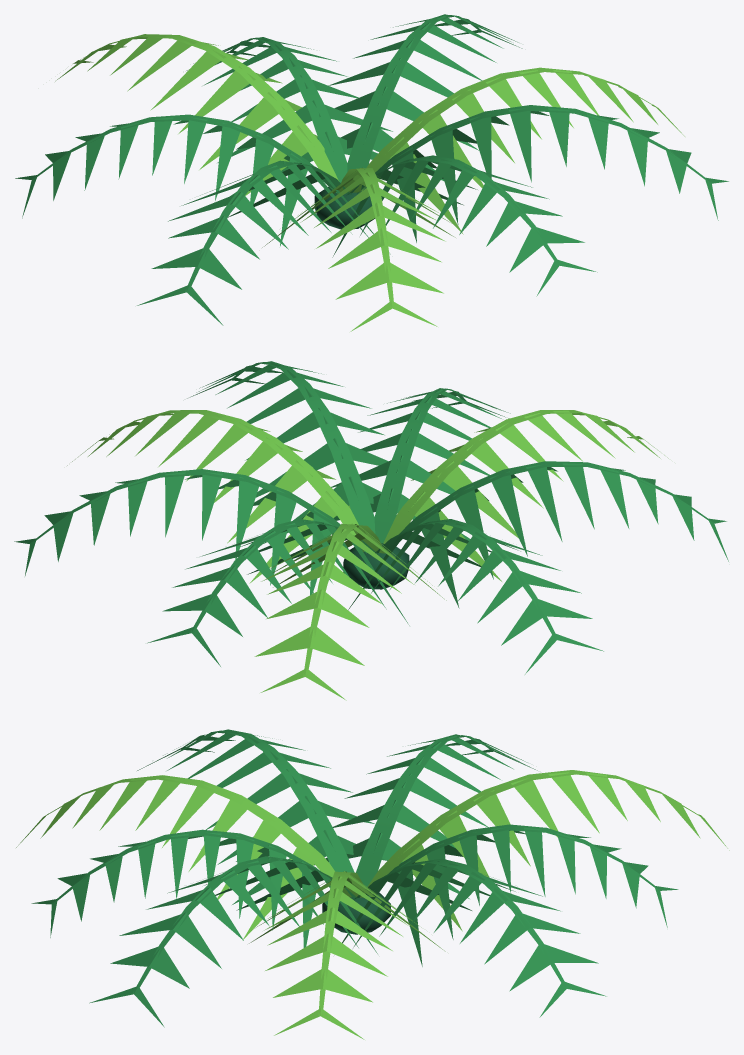
File: jungle_fern.glb
3 renders of one model, top to bottom at view 1: azimuth 30°, elevation 25°; view 2: azimuth 150°, elevation 25°; view 3: azimuth 270°, elevation 25°, orthographic.
Parts seen in each view (by area): view 1: Fern; view 2: Fern; view 3: Fern.
Part boxes in pixels (x1,y1,x2,y2): Fern: (15, 14, 728, 331); Fern: (14, 361, 728, 700); Fern: (16, 729, 729, 1039).
Size of the model in its own units: 3.43 by 0.7068 by 3.57.
